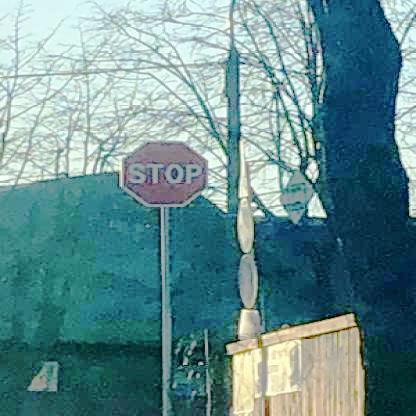Stop Sign: (117, 137, 210, 207)
